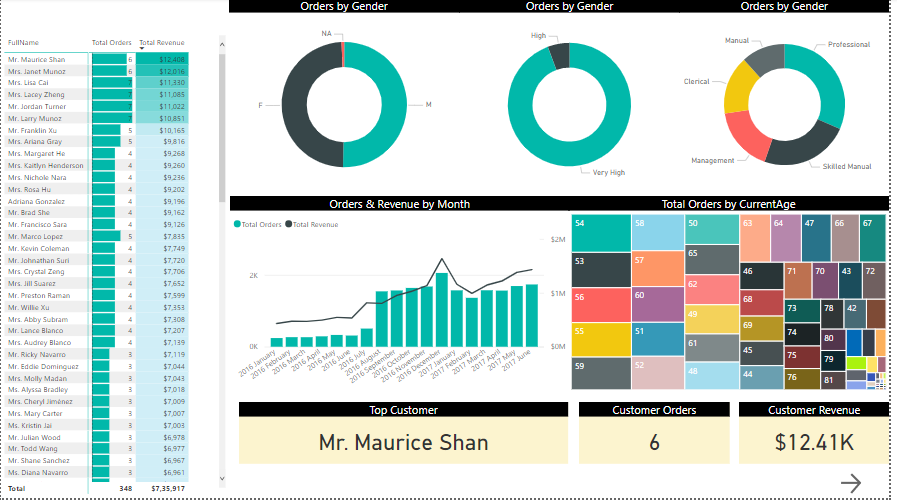

The page's visual inventory and layout, read from the dashboard file:
{"tool":"powerbi","page":{"name":"Page 3","canvas":[1280,720],"ordinal":2},"visuals":[{"type":"pivotTable","fields":{"Rows":["AdventureWorks_Customers.FullName"],"Values":["AdventureWorks_Sales.Total Orders","AdventureWorks_Sales.Total Revenue"]},"box":[0,48.7,327.6,670.2],"z":0},{"type":"donutChart","title":"Orders by Gender","fields":{"Category":["AdventureWorks_Customers.Gender"],"Y":["AdventureWorks_Sales.Total Orders"]},"box":[327.9,0,331.6,285.6],"z":1},{"type":"donutChart","title":"Orders by Gender","fields":{"Y":["AdventureWorks_Sales.Total Orders"],"Category":["AdventureWorks_Customers.IncomeLevel"]},"box":[659.5,0,318.3,285.6],"z":2},{"type":"donutChart","title":"Orders by Gender","fields":{"Category":["AdventureWorks_Customers.Occupation"],"Y":["AdventureWorks_Sales.Total Orders"]},"box":[976.5,0,303.5,285.7],"z":3},{"type":"lineClusteredColumnComboChart","title":"Orders & Revenue by Month","fields":{"Category":["AdventureWorks_Calendar.Start of Month.Variation.Date Hierarchy.Year","AdventureWorks_Calendar.Start of Month.Variation.Date Hierarchy.Month","AdventureWorks_Calendar.Start of Month.Variation.Date Hierarchy.Day"],"Y":["AdventureWorks_Sales.Total Orders"],"Y2":["AdventureWorks_Sales.Total Revenue"]},"box":[329.2,285.6,488.8,283.9],"z":4},{"type":"treemap","fields":{"Group":["AdventureWorks_Customers.CurrentAge"],"Values":["AdventureWorks_Sales.Total Orders"]},"box":[817.2,285.7,462.8,284.3],"z":5},{"type":"card","title":"Top Customer","fields":{"Values":["AdventureWorks_Customers.FullName"]},"box":[343.3,582.3,473.8,89.3],"z":6},{"type":"card","title":"Customer Orders","fields":{"Values":["AdventureWorks_Sales.Total Orders"]},"box":[832.3,582.3,217,89.3],"z":7},{"type":"card","title":"Customer Revenue","fields":{"Values":["AdventureWorks_Sales.Total Revenue"]},"box":[1063,582.3,217,89.3],"z":8},{"type":"textbox","box":[1031.2,671.5,245.4,47.7],"z":9},{"type":"actionButton","box":[1203.3,680.1,76.7,39.2],"z":10}]}

Visuals, with their boxes in screenshot pixels (x1, y1, x2, y2), scaled from the page's 1280x720 canvas onto the 897x500 screenshot:
pivotTable - AdventureWorks_Customers.FullName x AdventureWorks_Sales.Total Orders: box(0, 34, 230, 499)
"Orders by Gender" donutChart: box(230, 0, 462, 198)
"Orders by Gender" donutChart: box(462, 0, 685, 198)
"Orders by Gender" donutChart: box(684, 0, 896, 198)
"Orders & Revenue by Month" lineClusteredColumnComboChart: box(231, 198, 573, 395)
treemap - AdventureWorks_Customers.CurrentAge x AdventureWorks_Sales.Total Orders: box(573, 198, 896, 396)
"Top Customer" card: box(241, 404, 573, 466)
"Customer Orders" card: box(583, 404, 735, 466)
"Customer Revenue" card: box(745, 404, 896, 466)
textbox: box(723, 466, 895, 499)
actionButton: box(843, 472, 896, 499)
